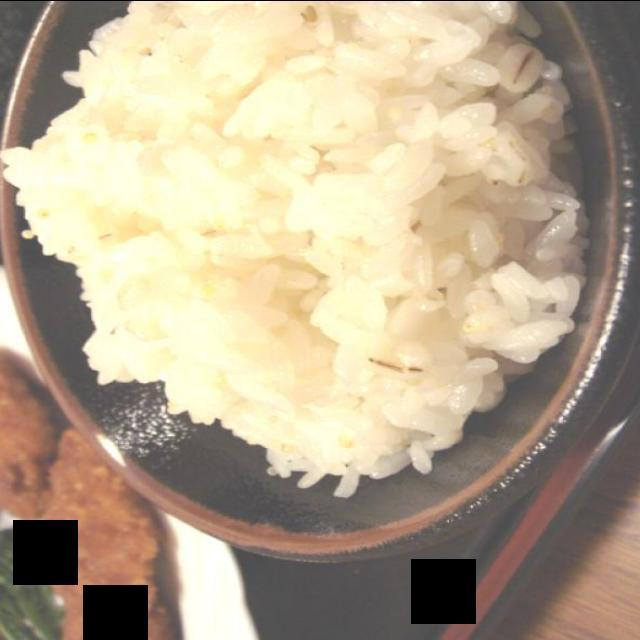rice: (5, 0, 585, 494)
